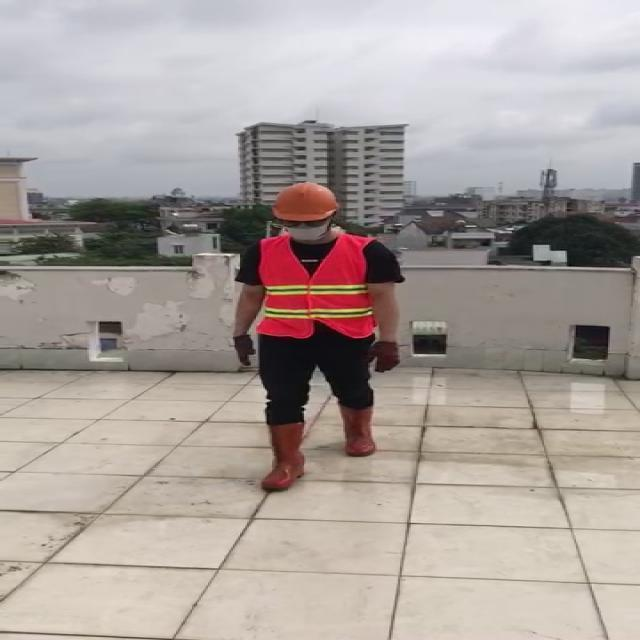gloves: (367, 338, 404, 376), (230, 330, 254, 370)
helmet: (266, 180, 342, 226)
safety_vest: (256, 228, 374, 339)
